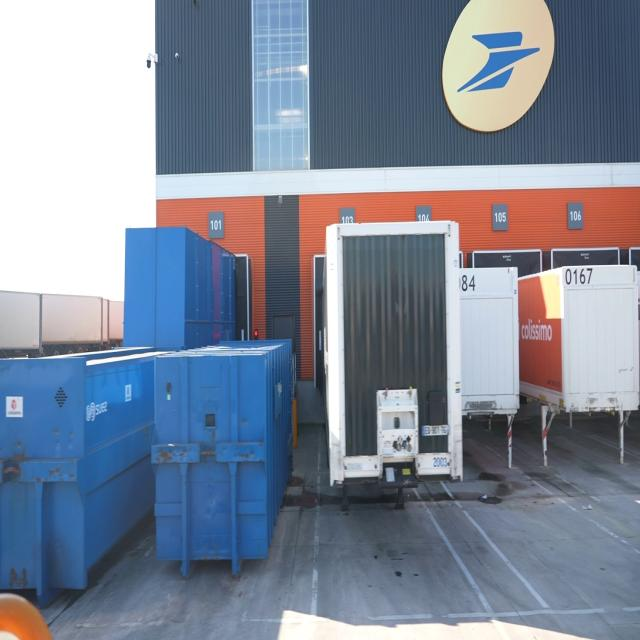Code: (563, 265, 596, 291)
